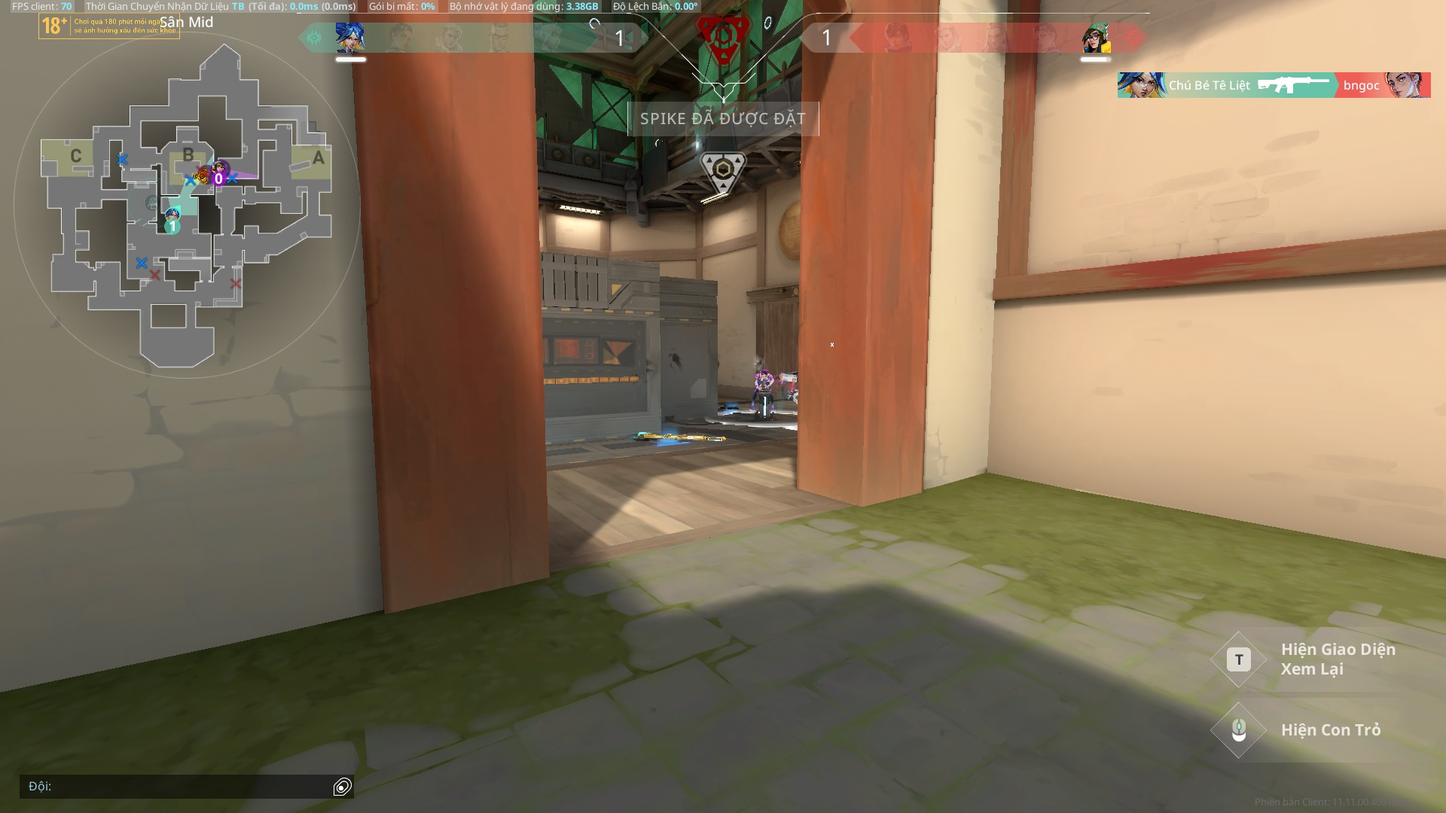body: (755, 372, 773, 385)
head: (759, 369, 768, 376)
